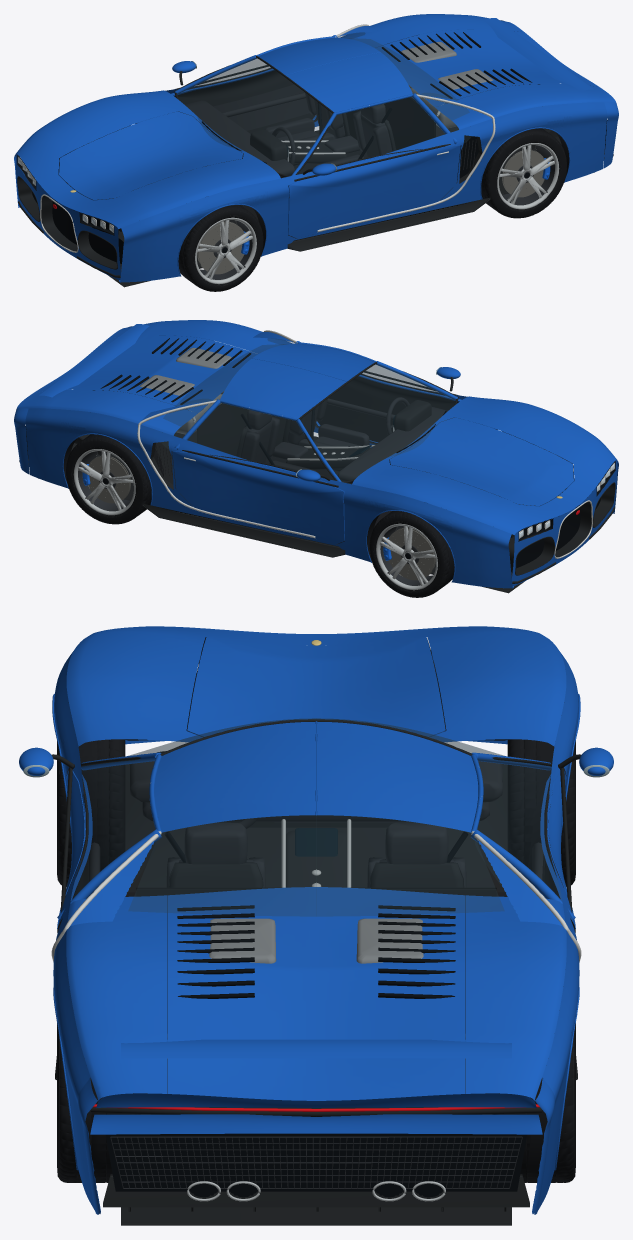
Rendered from preview.glb.
3 renders of one model, top to bottom at view 1: azimuth 30°, elevation 25°; view 2: azimuth 150°, elevation 25°; view 3: azimuth 270°, elevation 25°, orthographic. The views are drawn at different scales.
Parts seen in each view (by area): view 1: paint_0, paint_1, glass_0, carbon_0, leather_0, rubber_0, black_0, alloy_0, brake_0, chrome_0, bay_cast_0, dark_metal_0 (+1 smaller); view 2: paint_0, paint_1, glass_0, carbon_0, leather_0, rubber_0, alloy_0, black_0, brake_0, chrome_0, bay_cast_0, dark_metal_0 (+1 smaller); view 3: paint_0, paint_1, glass_0, carbon_0, black_0, rubber_0, leather_0, dark_metal_0, bay_cast_0, chrome_0, tail_0, interior_0 (+2 smaller).
Boxes of the visible parts, <box> form: paint_0: <box>14,14,615,282</box>; paint_1: <box>15,18,618,280</box>; glass_0: <box>177,32,471,175</box>; carbon_0: <box>17,55,613,287</box>; leather_0: <box>178,84,392,178</box>; rubber_0: <box>17,35,569,291</box>; black_0: <box>18,32,607,263</box>; alloy_0: <box>195,104,559,284</box>; brake_0: <box>197,149,544,274</box>; chrome_0: <box>18,24,495,252</box>; bay_cast_0: <box>401,41,493,128</box>; dark_metal_0: <box>200,139,554,279</box>; paint_0: <box>17,320,618,588</box>; paint_1: <box>14,324,617,586</box>; glass_0: <box>161,338,455,481</box>; carbon_0: <box>19,361,615,593</box>; leather_0: <box>240,397,454,484</box>; rubber_0: <box>63,423,615,597</box>; alloy_0: <box>73,410,437,590</box>; black_0: <box>25,338,614,568</box>; brake_0: <box>88,455,435,580</box>; chrome_0: <box>137,330,614,558</box>; bay_cast_0: <box>139,347,231,434</box>; dark_metal_0: <box>78,445,432,585</box>; paint_0: <box>19,637,613,1210</box>; paint_1: <box>57,626,596,1214</box>; glass_0: <box>57,718,575,929</box>; carbon_0: <box>51,662,581,1225</box>; black_0: <box>105,637,527,1197</box>; rubber_0: <box>57,638,575,1182</box>; leather_0: <box>88,761,544,897</box>; dark_metal_0: <box>110,1034,522,1188</box>; bay_cast_0: <box>209,918,423,963</box>; chrome_0: <box>51,767,581,962</box>; tail_0: <box>93,1104,539,1111</box>; interior_0: <box>142,802,489,822</box>.
Size of the model in its own units: 4.55 by 1.21 by 2.31.
